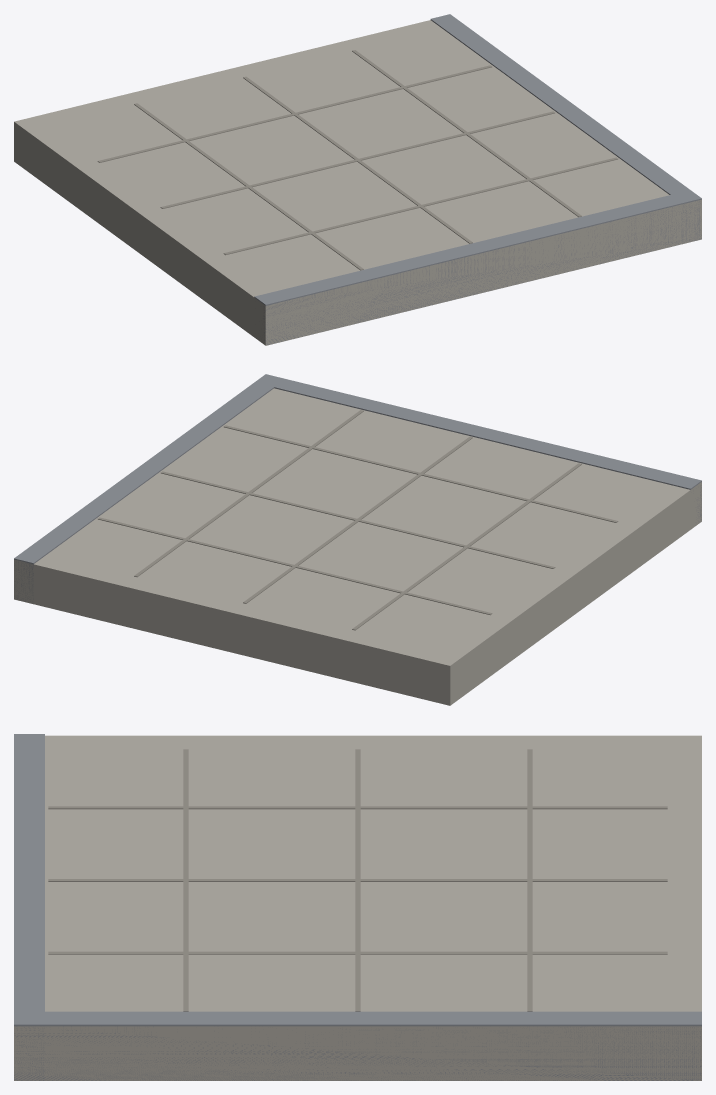
The model's file is Sidewalk_Corner.glb.
3 views of the same model, one above another, from view 1: azimuth 30°, elevation 25°; view 2: azimuth 150°, elevation 25°; view 3: azimuth 270°, elevation 25° (orthographic). The views are drawn at different scales.
Parts seen in each view (by area): view 1: Sidewalk_Corner; view 2: Sidewalk_Corner; view 3: Sidewalk_Corner.
Boxes of the visible parts, <box> form: Sidewalk_Corner: <box>14,14,701,345</box>; Sidewalk_Corner: <box>14,374,701,705</box>; Sidewalk_Corner: <box>14,734,701,1080</box>.
Size of the model in its own units: 4 by 0.36 by 4.
Materials: 1 (1 with a texture image).
